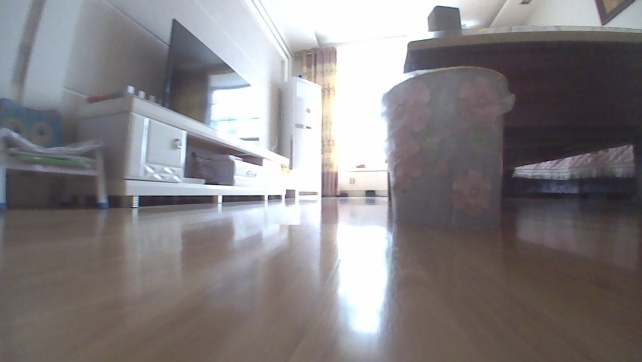TV_stand: (69, 90, 303, 210)
